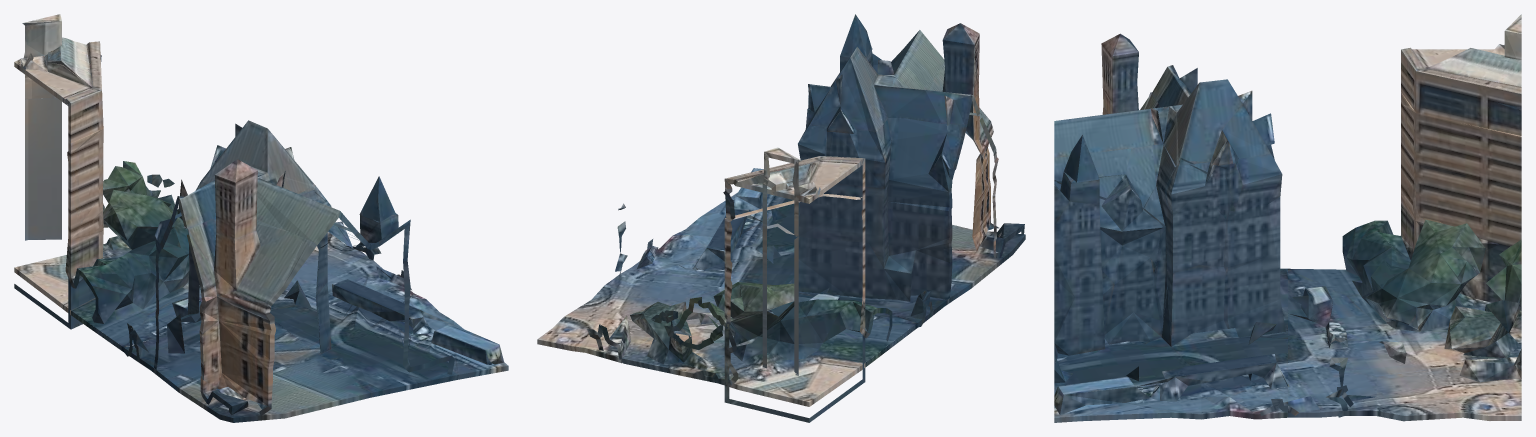
The model's file is chunk_-3_7.glb.
3 views of the same model, side by side, from view 1: azimuth 30°, elevation 25°; view 2: azimuth 150°, elevation 25°; view 3: azimuth 270°, elevation 25° (orthographic). The views are drawn at different scales.
Visible parts, largest first — view 1: hero-chunk; view 2: hero-chunk; view 3: hero-chunk.
Boxes of the visible parts, bbox=[...] form: hero-chunk: bbox=[14, 14, 508, 422]; hero-chunk: bbox=[537, 14, 1025, 422]; hero-chunk: bbox=[1054, 14, 1521, 422].
Size of the model in its own units: 56.04 by 50.69 by 76.32.
Materials: 3 (3 with a texture image).
